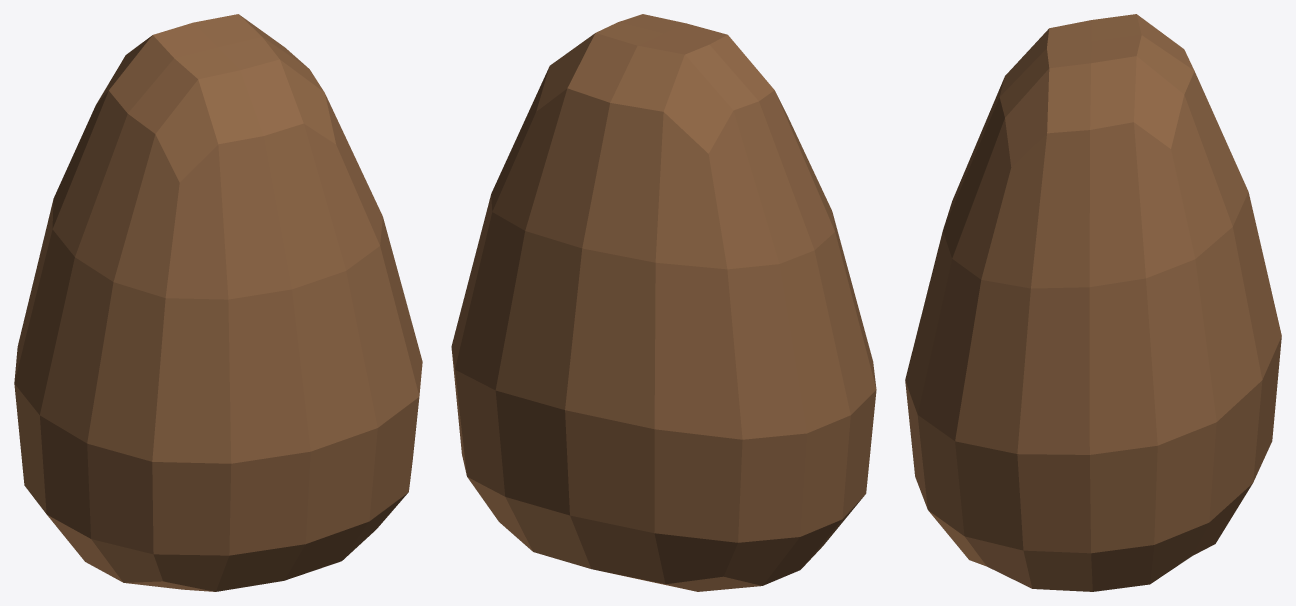
Rendered from Orangutan_Badan.fbx.
The picture shows the model from 3 angles, left to right: view 1: azimuth 30°, elevation 25°; view 2: azimuth 150°, elevation 25°; view 3: azimuth 270°, elevation 25°; orthographic projection. The views are drawn at different scales.
Visible parts, largest first — view 1: Badan.002; view 2: Badan.002; view 3: Badan.002.
Part boxes in pixels (x1,y1,x2,y2): Badan.002: (14,14,422,591); Badan.002: (451,14,876,591); Badan.002: (905,14,1281,591).
Bounding box in the file's own units: 126 × 171 × 114.
